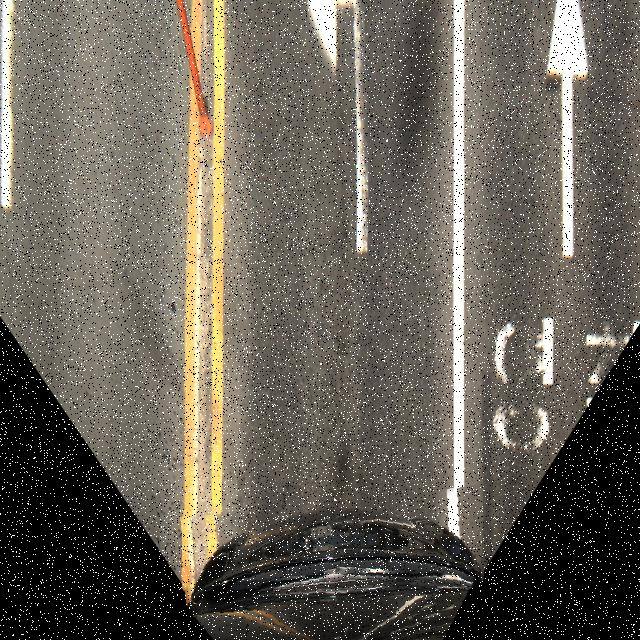yangbo: (182, 493, 486, 640)
